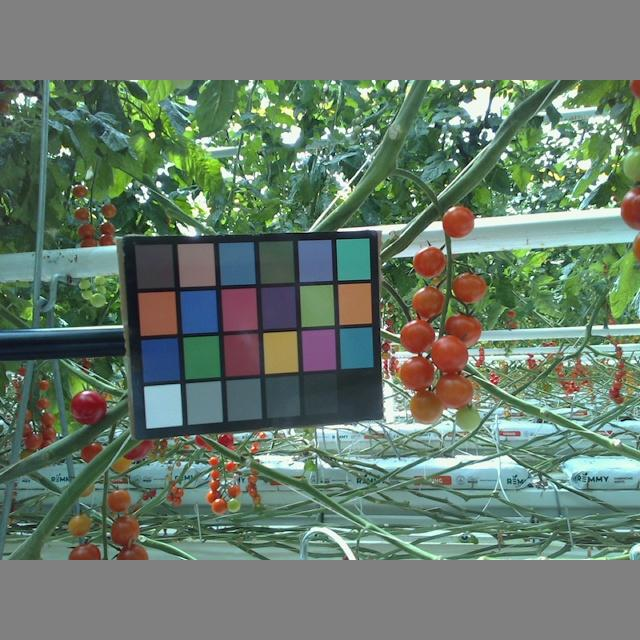green: (454, 405, 482, 432), (624, 146, 640, 187)
pink: (439, 312, 483, 346), (431, 334, 468, 372), (434, 373, 473, 409), (400, 319, 437, 354), (411, 285, 446, 320), (440, 203, 476, 237), (408, 389, 443, 423), (398, 357, 436, 388), (454, 271, 488, 304), (411, 247, 446, 278), (109, 514, 140, 546), (620, 186, 640, 229), (65, 512, 92, 537), (64, 542, 103, 558), (106, 490, 132, 512), (113, 545, 149, 560), (110, 455, 130, 473)
red: (68, 390, 108, 426), (122, 434, 153, 461), (80, 440, 107, 467)
